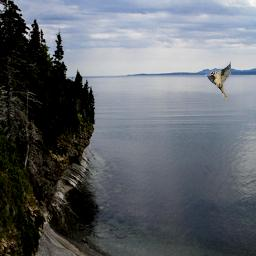Sparrow: (205, 61, 231, 99)
